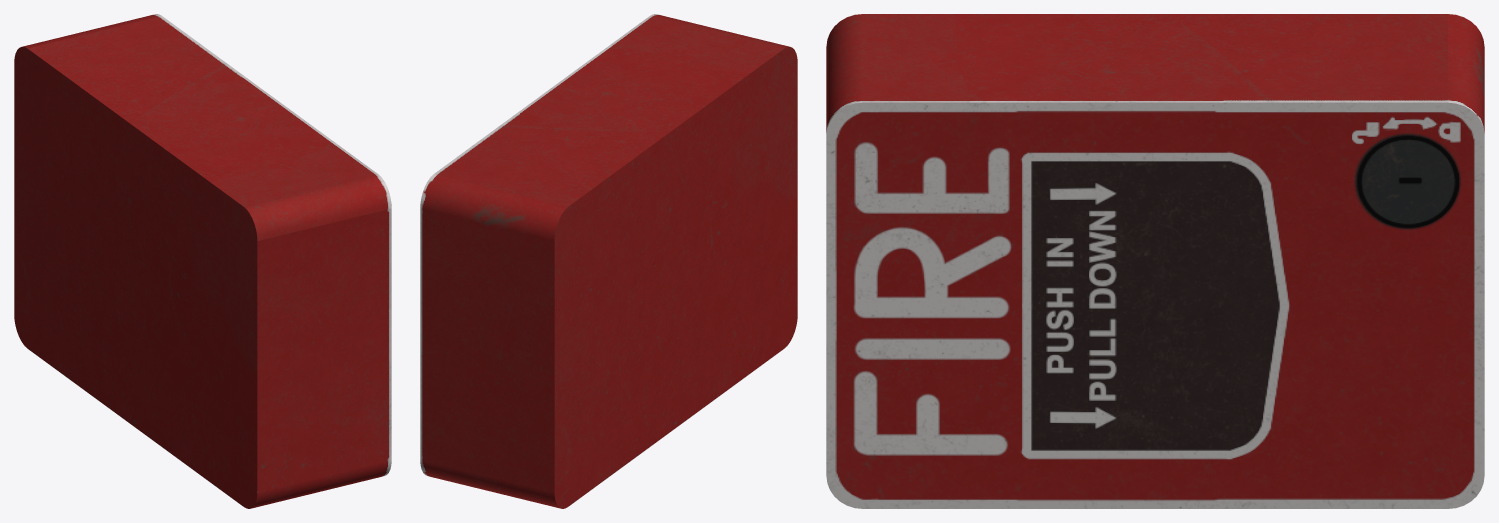
File: FirePullStation.glb
The picture shows the model from 3 angles, left to right: view 1: azimuth 30°, elevation 25°; view 2: azimuth 150°, elevation 25°; view 3: azimuth 270°, elevation 25°; orthographic projection. The views are drawn at different scales.
Parts seen in each view (by area): view 1: Fire Pull Station LP; view 2: Fire Pull Station LP; view 3: Fire Pull Station LP.
Part boxes in pixels (bbox=[...]): Fire Pull Station LP: bbox=[14, 14, 391, 508]; Fire Pull Station LP: bbox=[420, 14, 797, 508]; Fire Pull Station LP: bbox=[826, 14, 1484, 508].
Bounding box in the file's own units: 0.037 × 0.079 × 0.116.
Materials: 1 (1 with a texture image).
